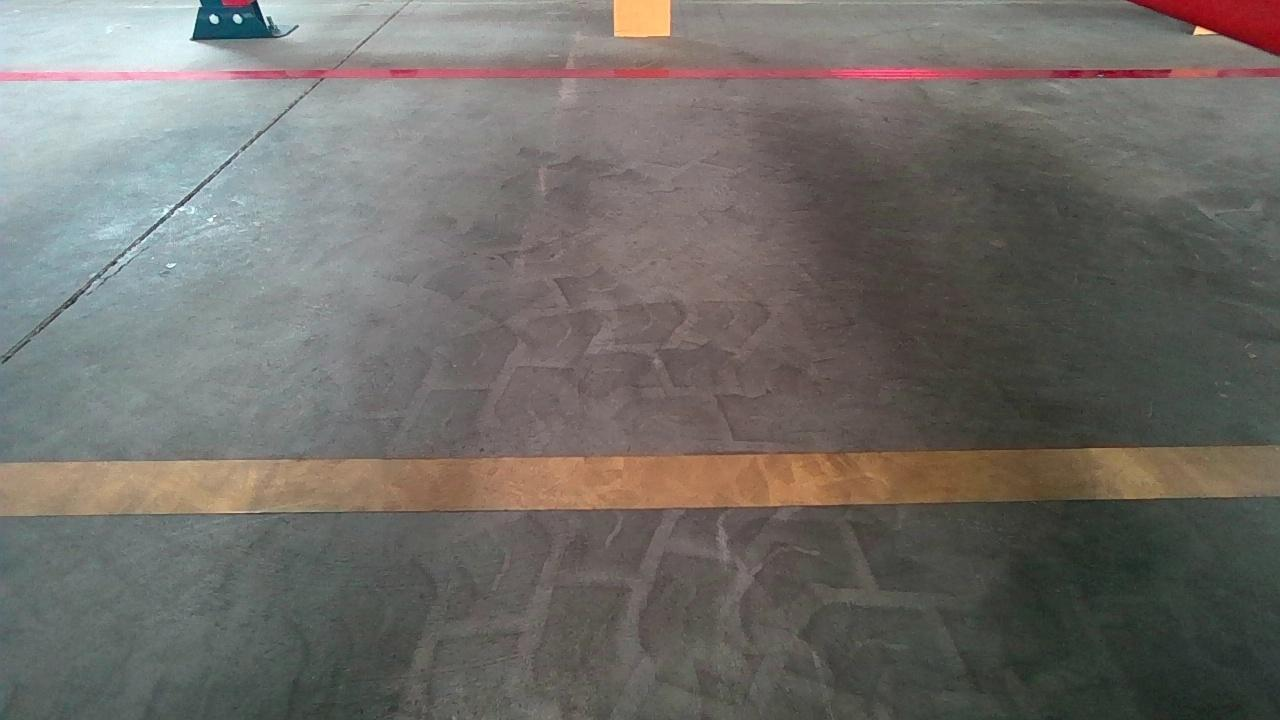yellow_line: (0, 441, 1272, 520)
